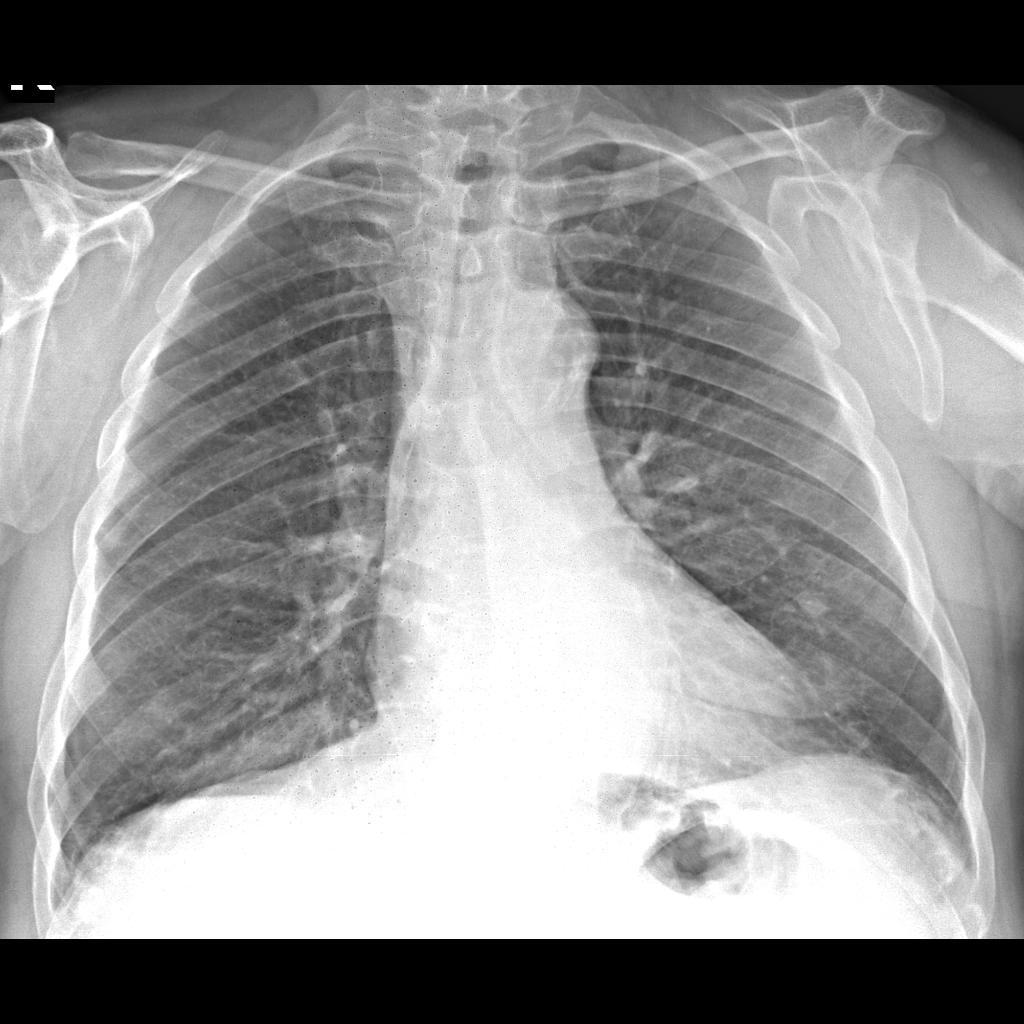Nodule: (786, 583, 847, 630)
